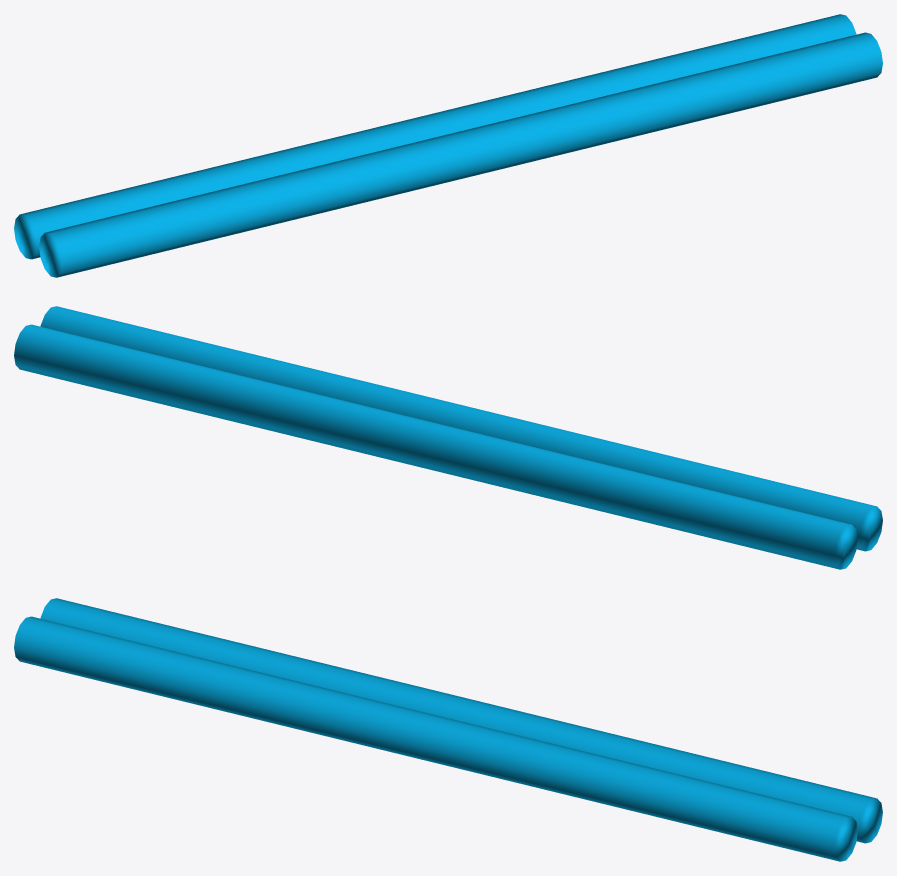
The model's file is Ceiling_Lamp_03_Bulb.fbx.
The picture shows the model from 3 angles, top to bottom: view 1: azimuth 30°, elevation 25°; view 2: azimuth 150°, elevation 25°; view 3: azimuth 330°, elevation 25°; orthographic projection.
Parts seen in each view (by area): view 1: Ceiling_Lamp_03_Bulb; view 2: Ceiling_Lamp_03_Bulb; view 3: Ceiling_Lamp_03_Bulb.
Boxes of the visible parts, x1,y1,x2,y2 form: Ceiling_Lamp_03_Bulb: (14,14,882,277); Ceiling_Lamp_03_Bulb: (14,306,882,569); Ceiling_Lamp_03_Bulb: (14,598,882,861).
Size of the model in its own units: 146 by 7.2 by 14.94.
